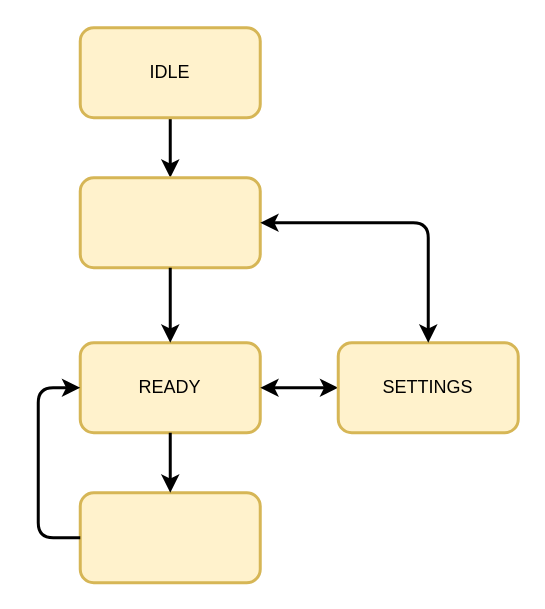
Some shapes in this 545 by 609 pixel diagram are drawn without their labels. Each missing label, with the centre of its shape:
"FREEZING" goes at [169,537].
"STANDBY" goes at [169,222].
